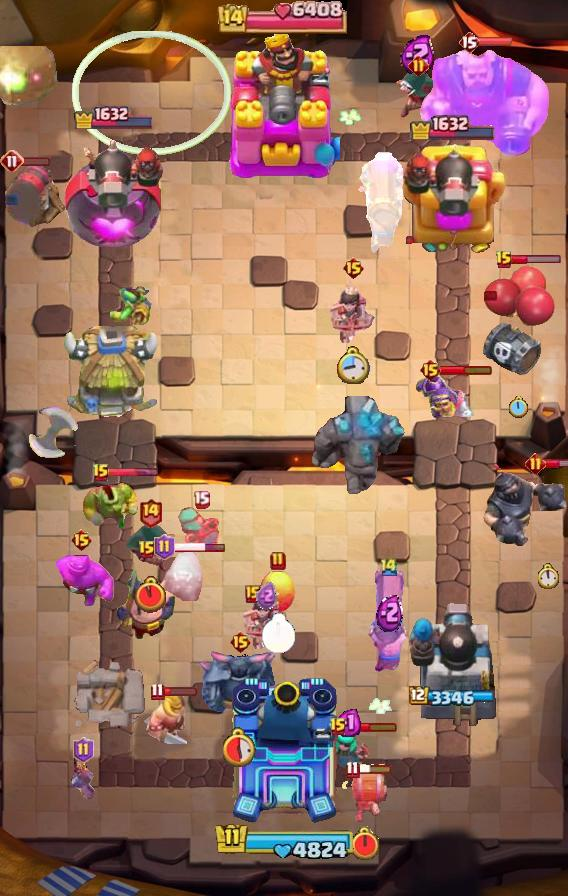barbarian-barrel: (68, 753, 98, 801)
battle-healer: (358, 152, 404, 256), (366, 569, 412, 673)
cannoneer-tower: (309, 396, 407, 498)
clock: (210, 821, 358, 863), (217, 0, 351, 34)
electro-spirit: (399, 34, 436, 75), (377, 593, 404, 632), (335, 707, 361, 737), (256, 583, 277, 610)
elixir: (261, 613, 296, 654), (223, 727, 257, 767), (336, 346, 370, 384), (349, 826, 381, 862), (135, 575, 166, 612), (538, 563, 560, 589), (508, 396, 528, 420)
emote: (440, 364, 493, 376), (346, 721, 399, 733), (172, 542, 226, 553), (510, 255, 562, 266), (107, 467, 159, 478), (477, 36, 513, 48), (357, 763, 393, 775), (13, 157, 51, 168), (162, 686, 198, 697), (544, 458, 568, 469)
firecracker-evolution: (415, 372, 477, 419)
flying-machine: (81, 477, 141, 531)
giant-snowball: (105, 284, 153, 326)
goblin-giant: (146, 688, 187, 744)
golemite: (198, 650, 282, 722)
hog: (258, 570, 298, 614)
king-tower: (228, 29, 340, 181), (228, 676, 340, 826)
knight: (340, 768, 390, 824)
lightning: (413, 47, 556, 161)
monk: (116, 564, 178, 642)
prince: (61, 326, 163, 422)
royal-giant: (27, 405, 95, 459)
royal-giant-evolution: (0, 160, 68, 230)
royal-guardian: (480, 461, 568, 549)
royal-recruit-evolution: (480, 264, 556, 376)
selected: (409, 112, 497, 140), (73, 103, 155, 129), (409, 686, 497, 708)
skeleton-dragon: (328, 285, 378, 343), (241, 591, 291, 649)
tesla: (151, 549, 203, 601), (122, 525, 178, 573), (393, 70, 443, 118)
text: (138, 497, 163, 528), (0, 149, 24, 173), (342, 256, 365, 280), (418, 358, 441, 382), (70, 528, 93, 552), (228, 630, 251, 654), (153, 534, 174, 560), (73, 737, 94, 763), (458, 30, 480, 54), (525, 453, 547, 475), (407, 56, 428, 77), (379, 555, 399, 576), (495, 250, 513, 270), (92, 463, 110, 483), (138, 540, 156, 560), (329, 717, 347, 737), (193, 491, 211, 510), (270, 551, 286, 571), (245, 585, 261, 603), (344, 761, 359, 779), (151, 682, 165, 701)
tornado: (47, 552, 115, 608)
tower-bar: (60, 132, 167, 256), (399, 138, 507, 256), (408, 599, 498, 731)
witch: (178, 507, 224, 557), (325, 731, 371, 773)
x-bow: (0, 46, 62, 108)
